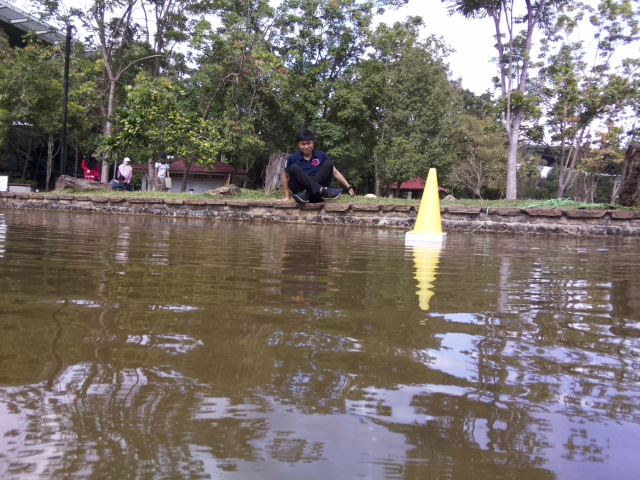checkpoint: (404, 167, 449, 247)
